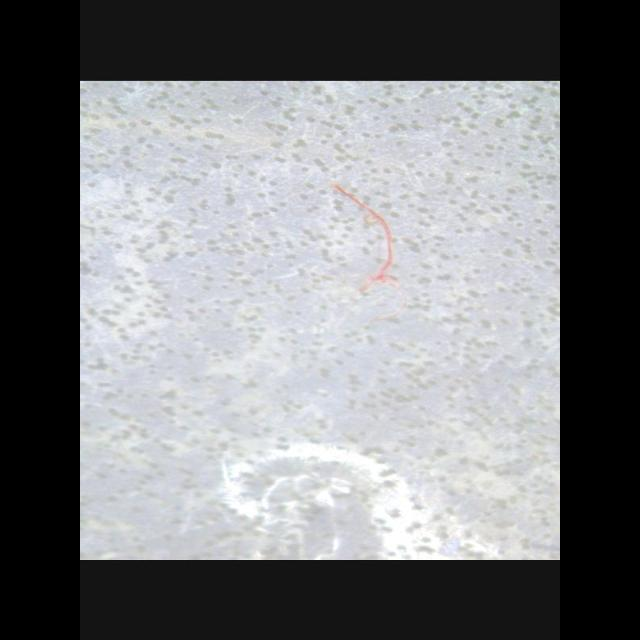Fibre: (320, 182, 410, 322)
